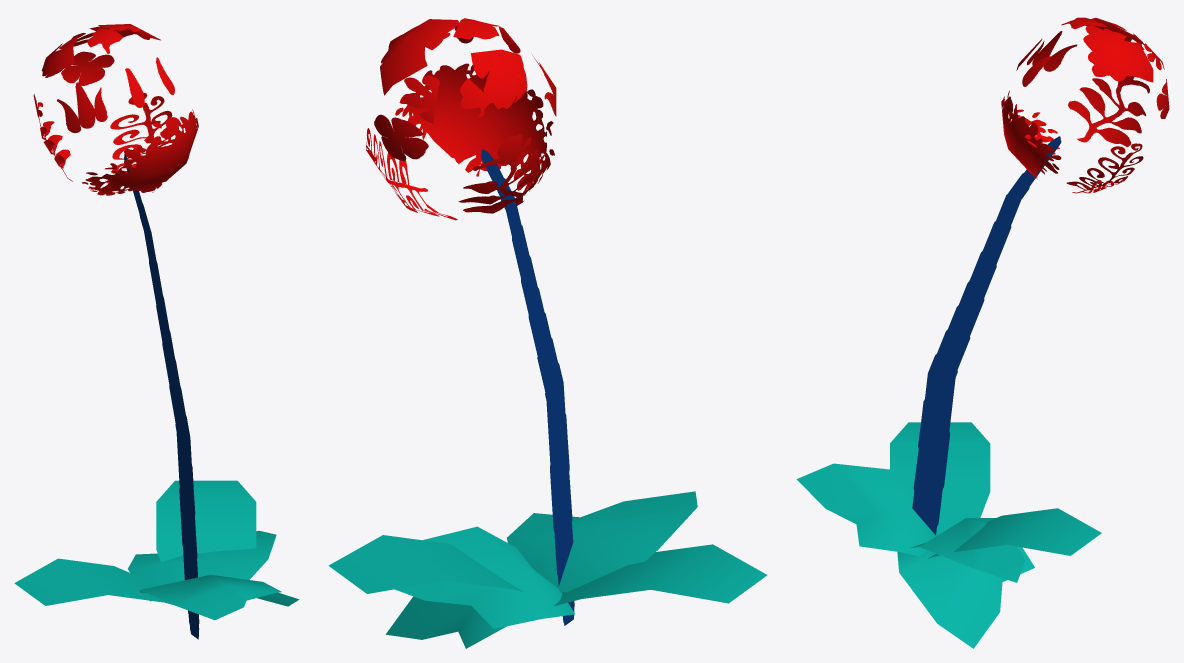
Rendered from SM_FloorDandelion2.fbx.
3 renders of one model, left to right at view 1: azimuth 30°, elevation 25°; view 2: azimuth 150°, elevation 25°; view 3: azimuth 270°, elevation 25°, orthographic. The views are drawn at different scales.
Visible parts, largest first — view 1: Object002; view 2: Object002; view 3: Object002.
Boxes of the visible parts, x1=… form: Object002: x1=14, y1=24, x2=299, y2=639; Object002: x1=328, y1=18, x2=767, y2=648; Object002: x1=796, y1=17, x2=1169, y2=648.
Bounding box in the file's own units: 6.06 × 12.06 × 7.08.
